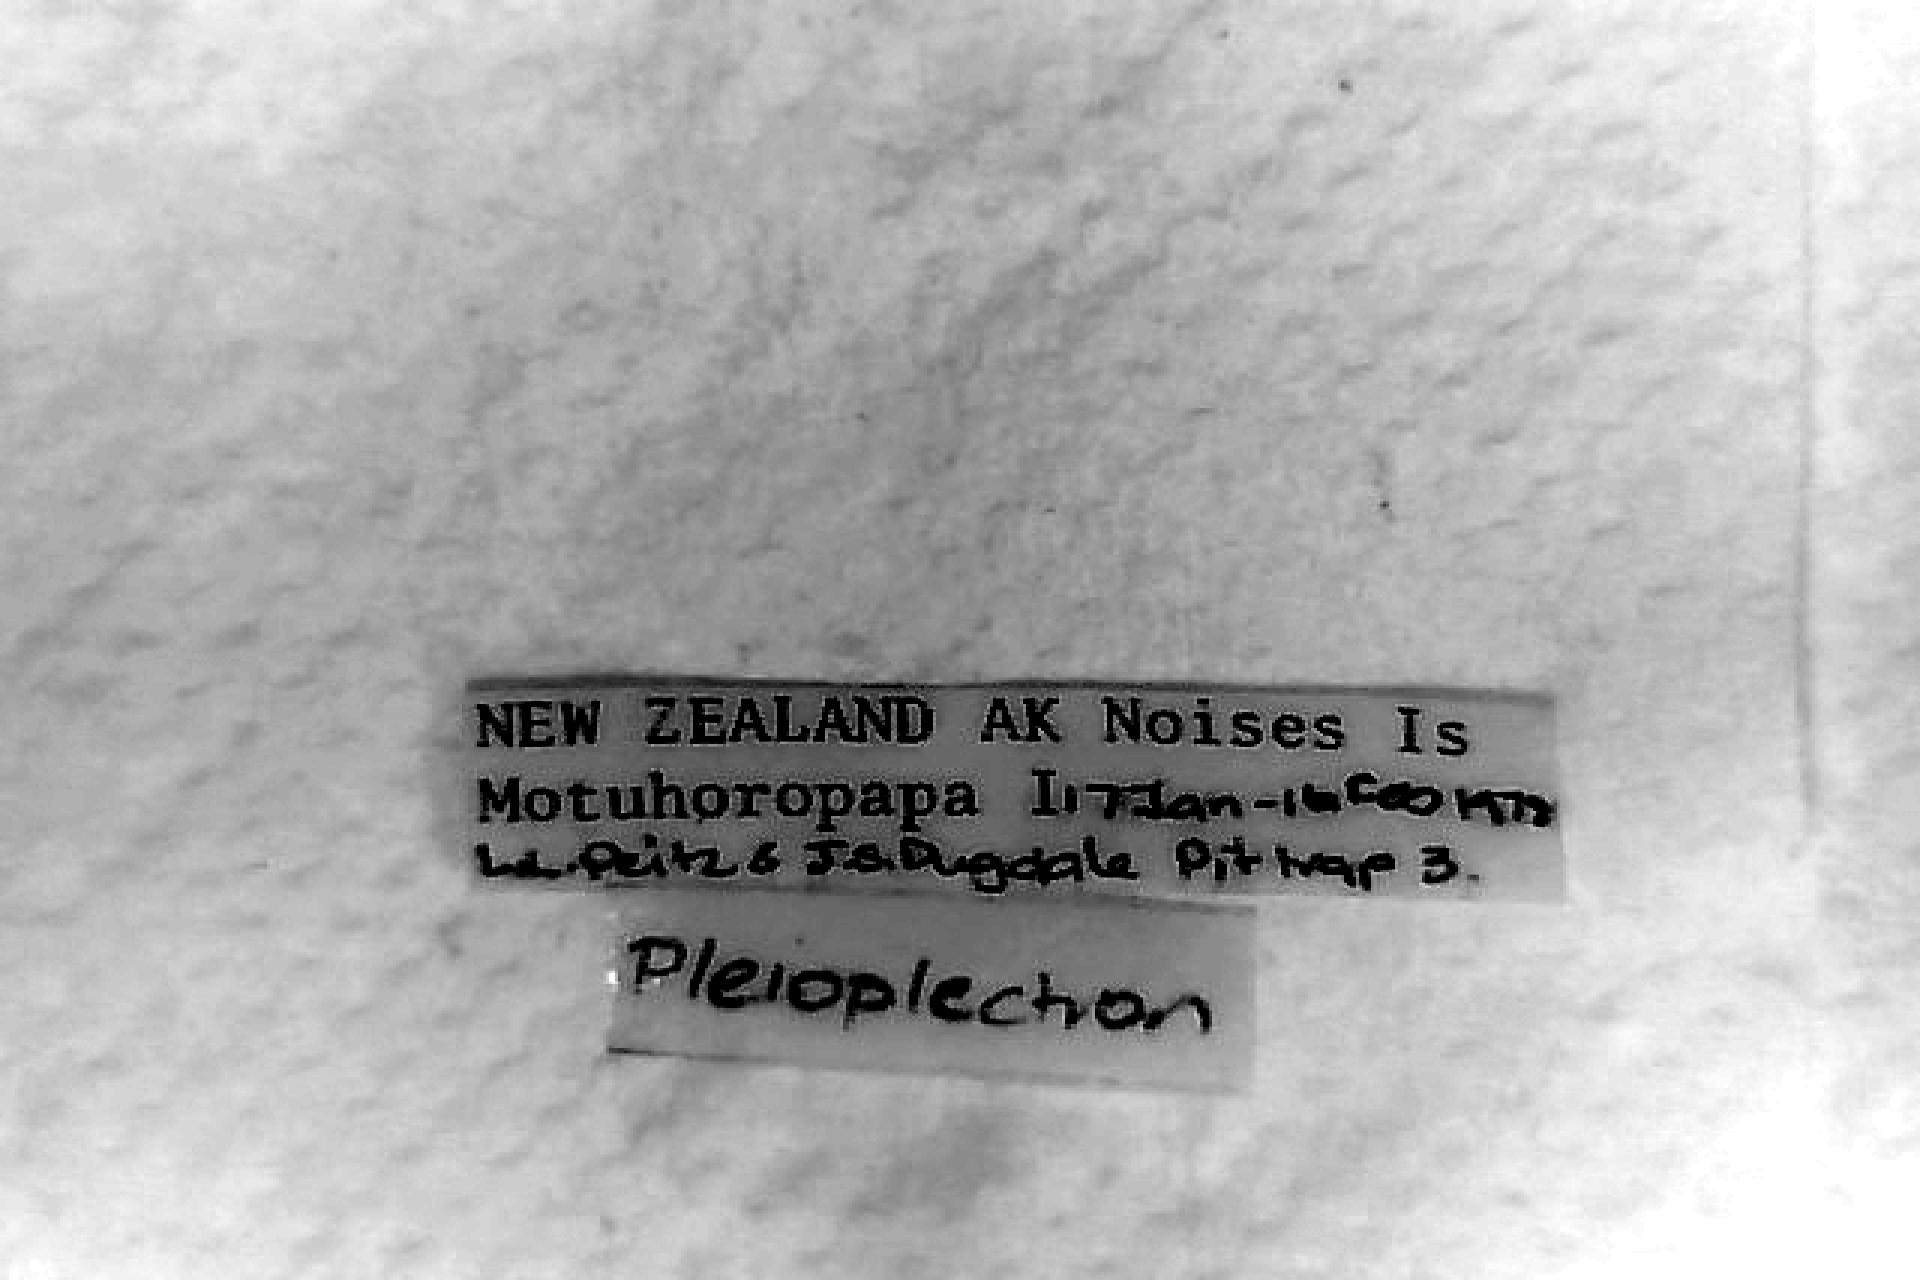hand_label: (613, 890, 1256, 1088)
mixed_label: (465, 680, 1564, 897)
